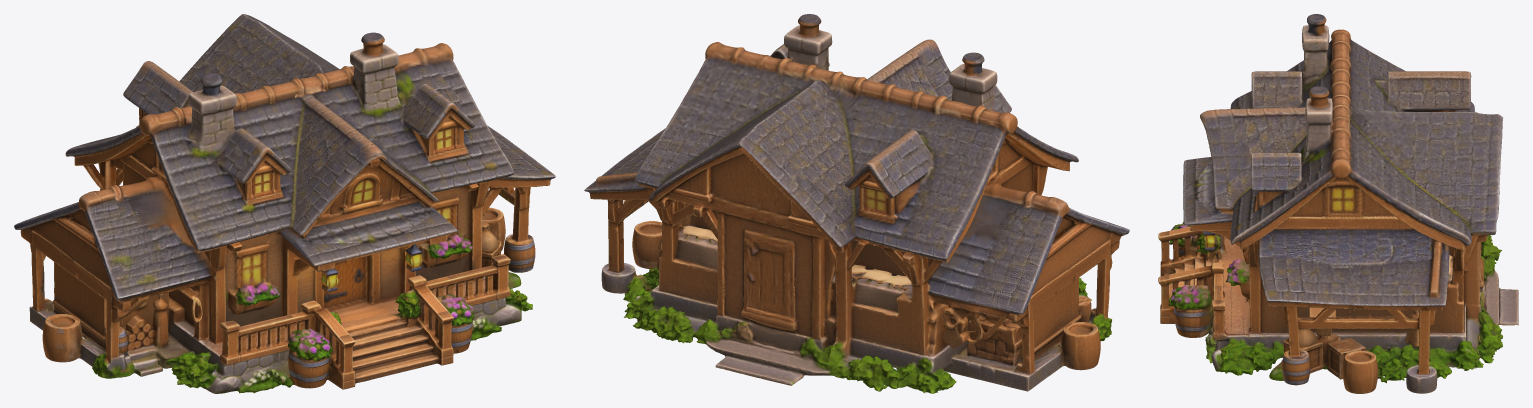
Rendered from cozy_timber_house.glb.
3 views of the same model, side by side, from view 1: azimuth 30°, elevation 25°; view 2: azimuth 150°, elevation 25°; view 3: azimuth 270°, elevation 25° (orthographic). The views are drawn at different scales.
Bounding box in the file's own units: 1.9 × 1.05 × 1.39.
Materials: 1 (1 with a texture image).
